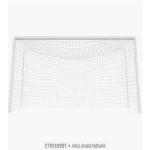goals: (7, 32, 141, 115)
